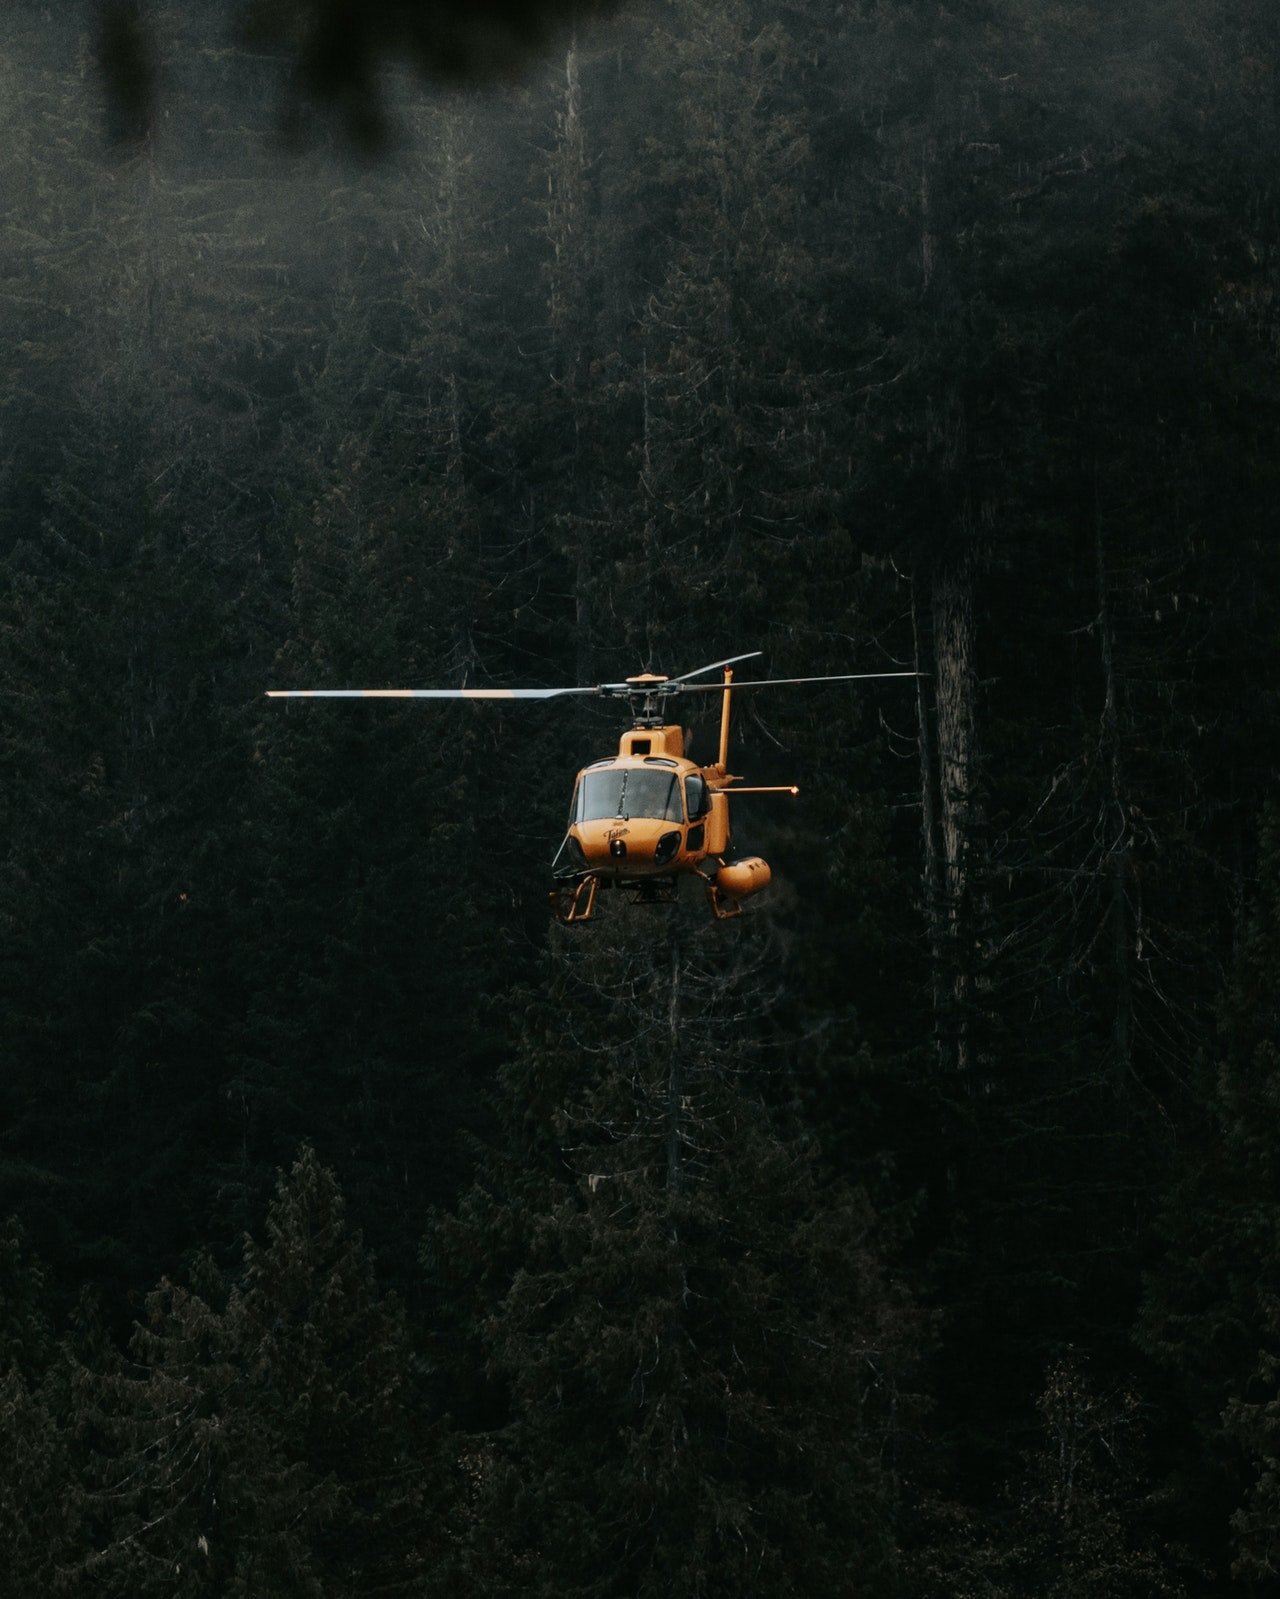heli: (263, 653, 922, 924)
